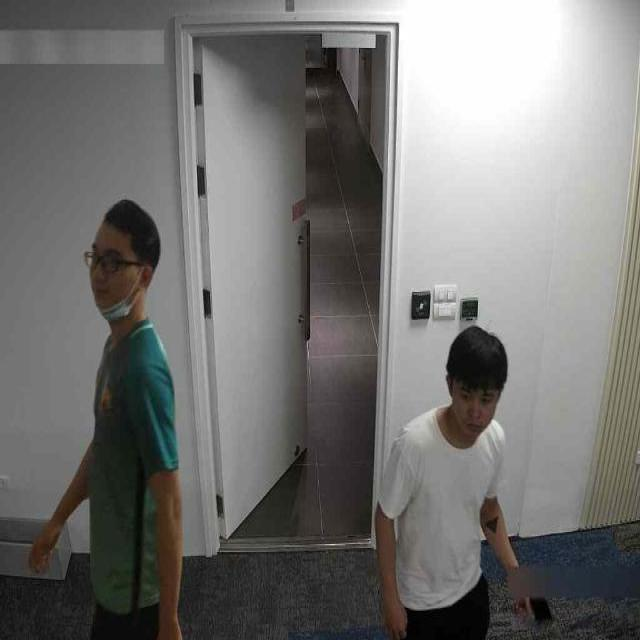bare_hand: (17, 497, 70, 580), (373, 588, 420, 640), (153, 597, 188, 640)
